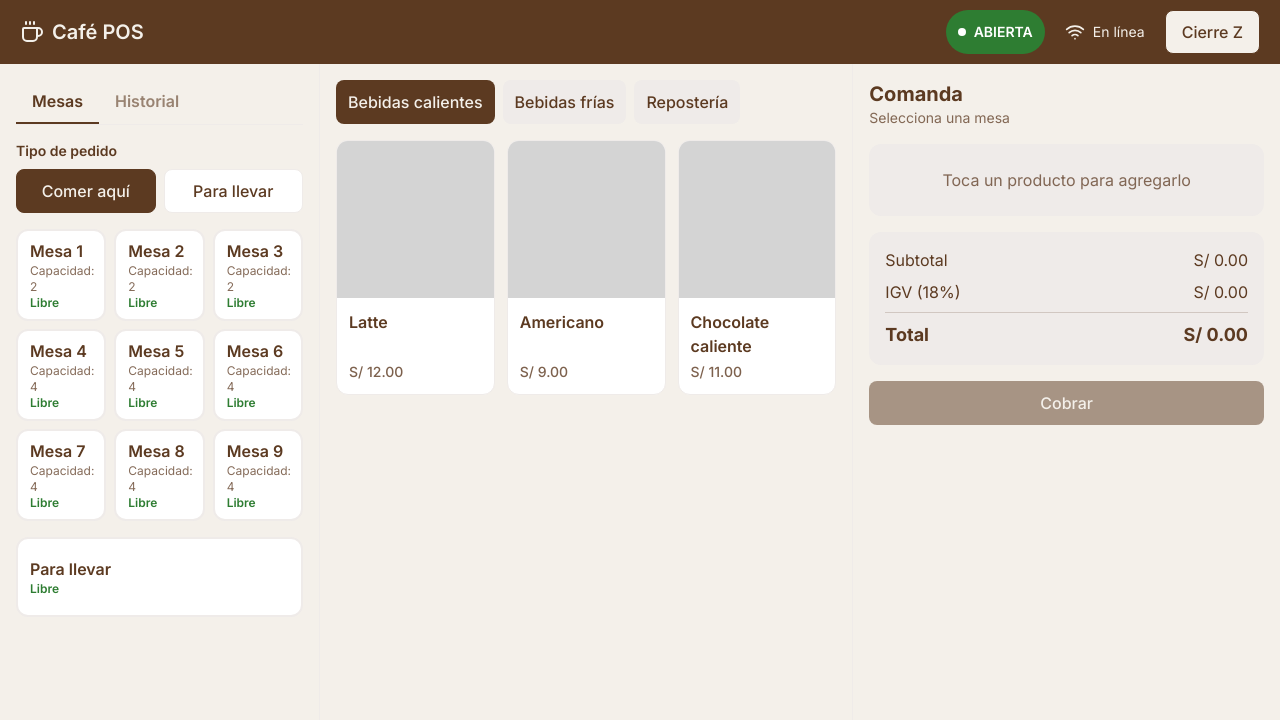
Test case: aviso de actualización PWA › deshabilita la actualización mientras hay una comanda activa
The width and height of the screenshot is (1280, 720).
Click the button "Mesa 1 Capacidad: 2 Libre" at [61, 275], box top-left (16, 229), bottom-right (106, 321)
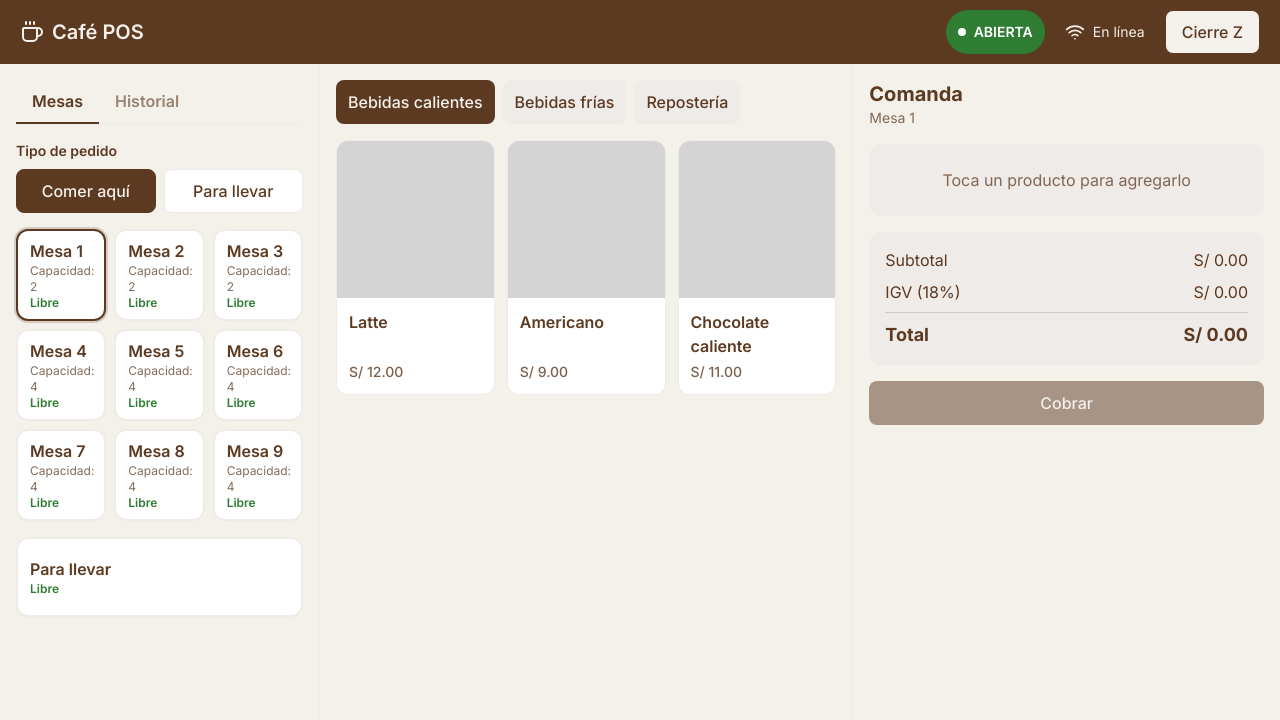
Click the button with aria-label "Agregar Latte" at [415, 267], box top-left (336, 140), bottom-right (495, 395)
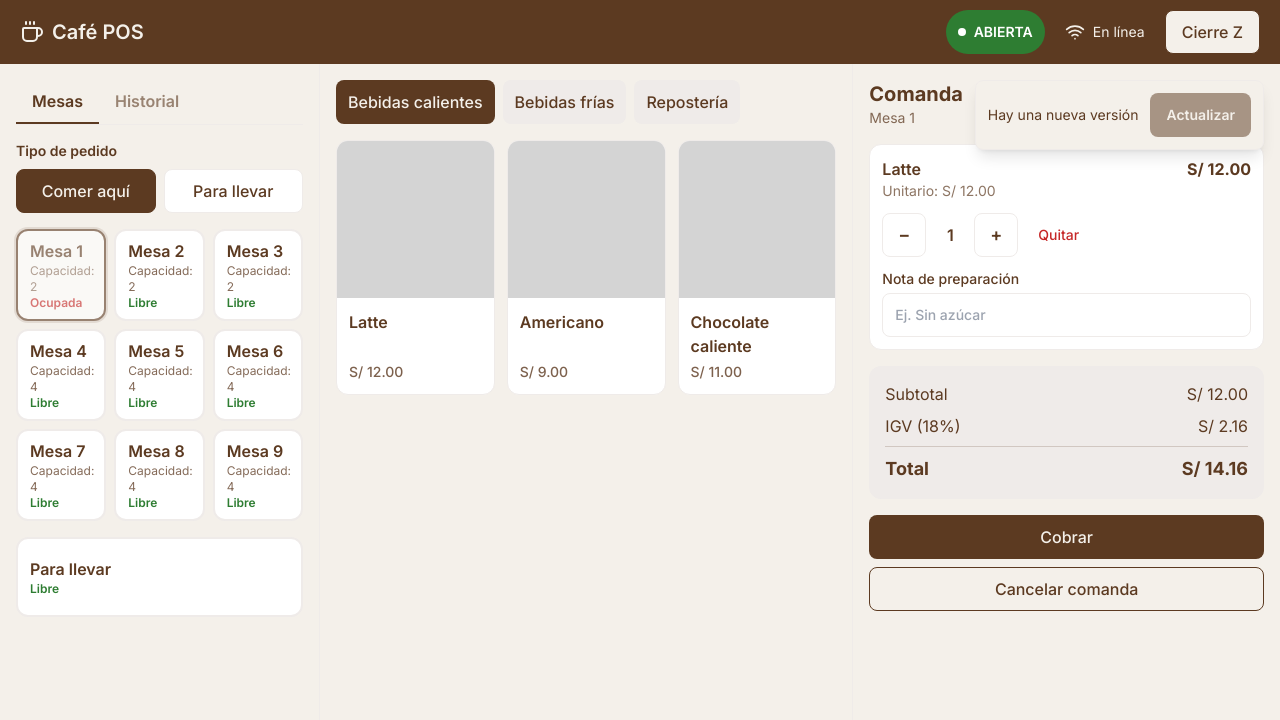
Now the text "Hay una nueva versión" is shown, box top-left (988, 105), bottom-right (1138, 125)
Now the button "Actualizar" is disabled, box top-left (1150, 93), bottom-right (1251, 137)
